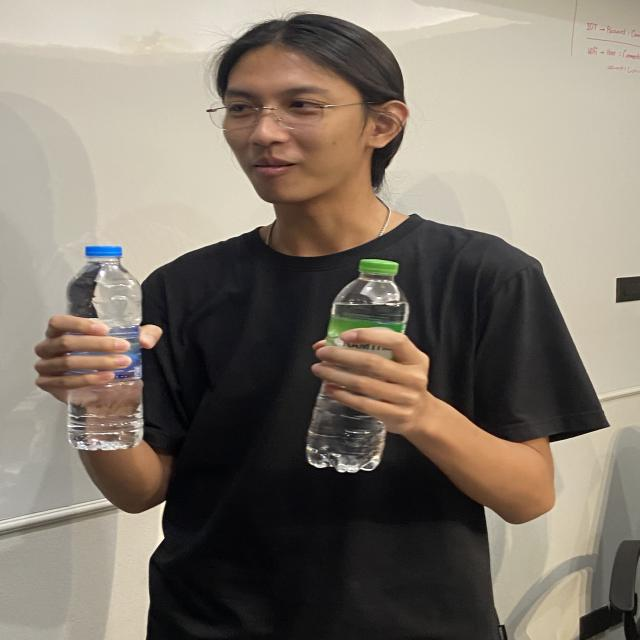bottle: (313, 248, 417, 472), (73, 241, 151, 448)
